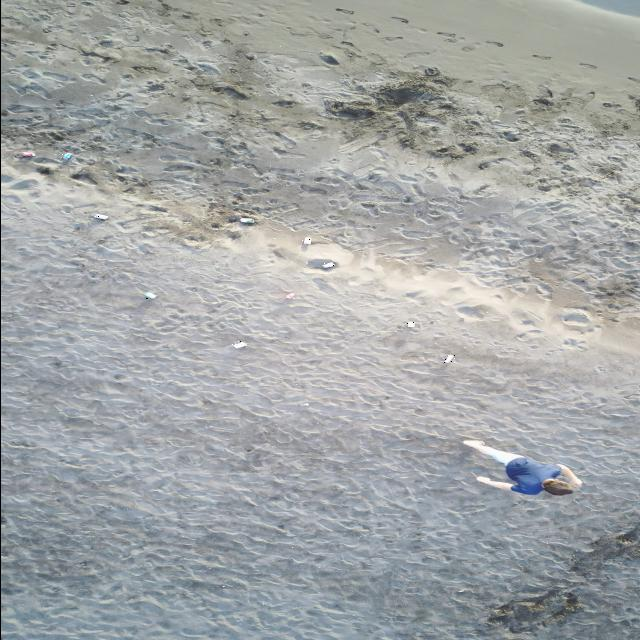Garbage: (307, 258, 336, 270), (320, 52, 339, 64), (320, 260, 335, 268), (424, 67, 439, 75), (19, 151, 35, 158), (240, 216, 255, 223), (143, 291, 156, 299), (232, 340, 246, 347), (92, 213, 108, 219), (443, 353, 452, 363), (284, 292, 295, 299), (63, 152, 71, 161), (301, 236, 311, 243), (407, 320, 415, 327)
